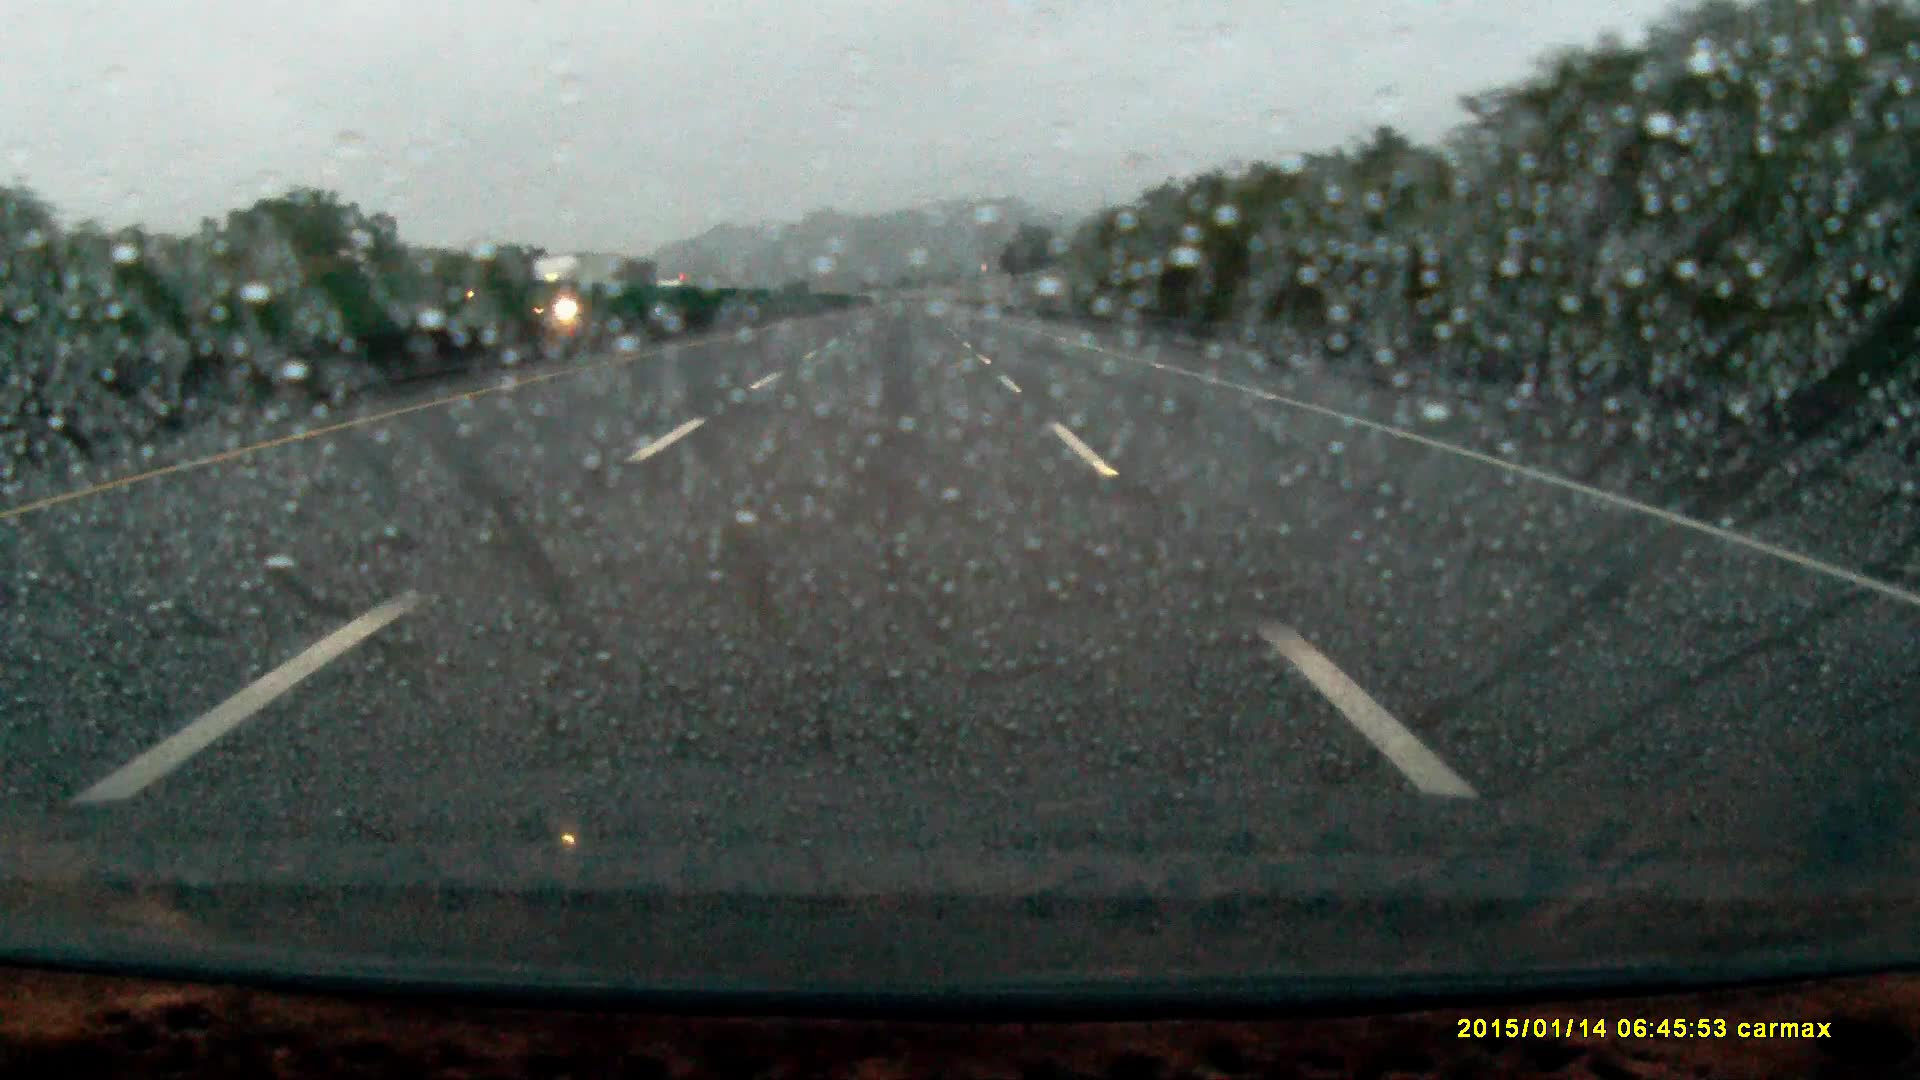vehicle: (531, 253, 629, 331), (657, 278, 702, 313)
